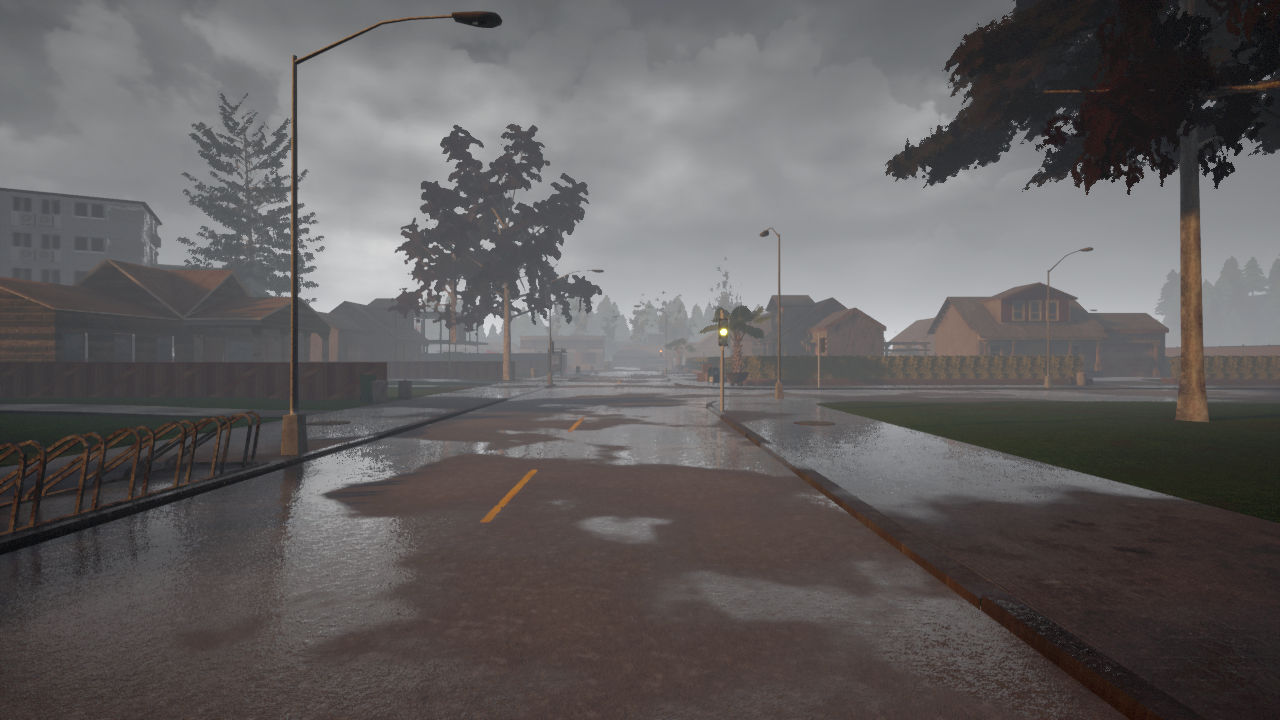yellow: (717, 317, 728, 346)
